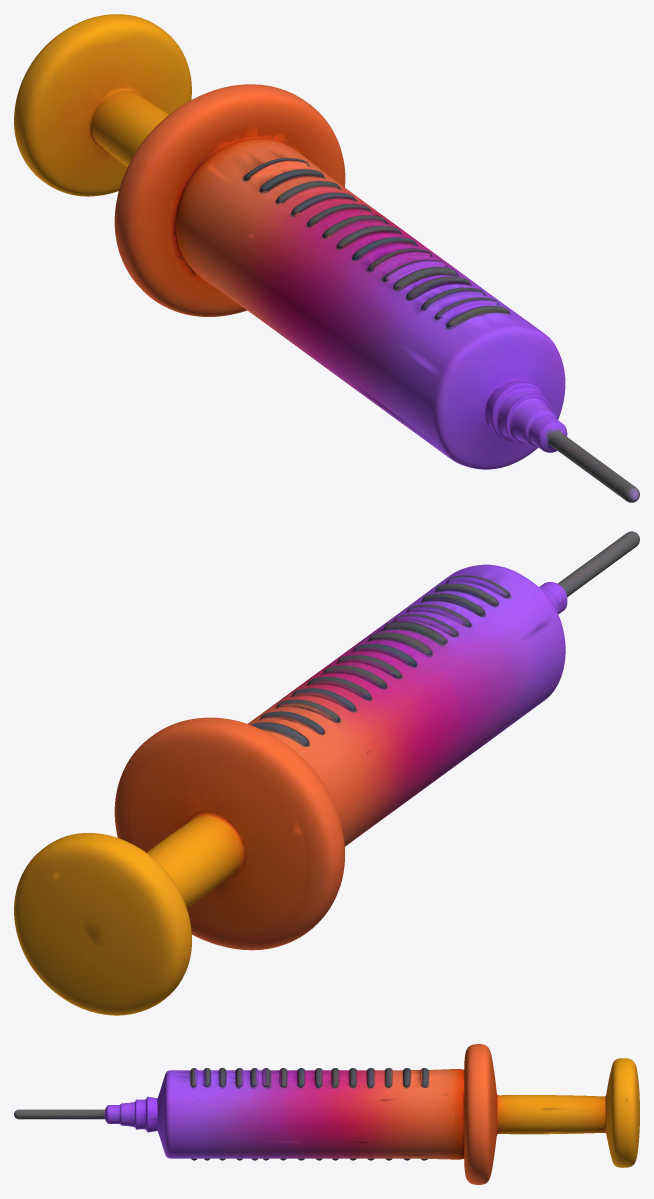
The model's file is syringe.glb.
3 renders of one model, top to bottom at view 1: azimuth 30°, elevation 25°; view 2: azimuth 150°, elevation 25°; view 3: azimuth 270°, elevation 25°, orthographic. The views are drawn at different scales.
Visible parts, largest first — view 1: node_0; view 2: node_0; view 3: node_0.
Part boxes in pixels (bbox=[...]): node_0: bbox=[14, 14, 639, 502]; node_0: bbox=[14, 531, 639, 1015]; node_0: bbox=[14, 1044, 639, 1184].
Size of the model in its own units: 0.2807 by 0.2667 by 1.2.
1 material, 1 textured.
